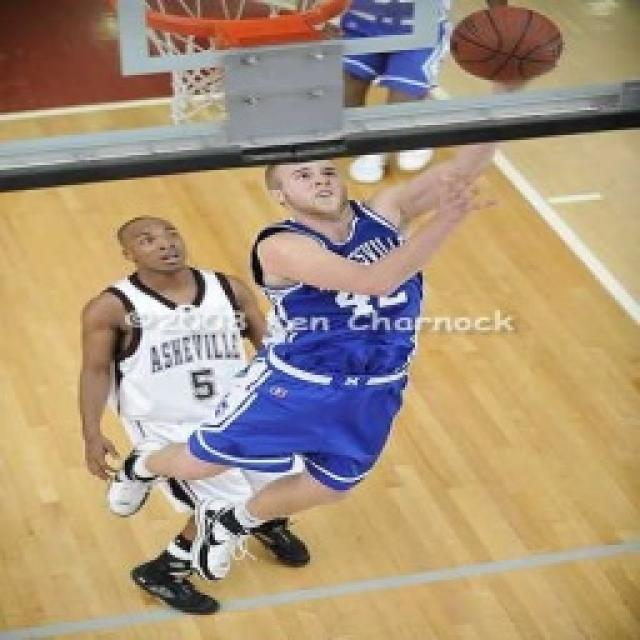rim: (446, 0, 568, 86)
